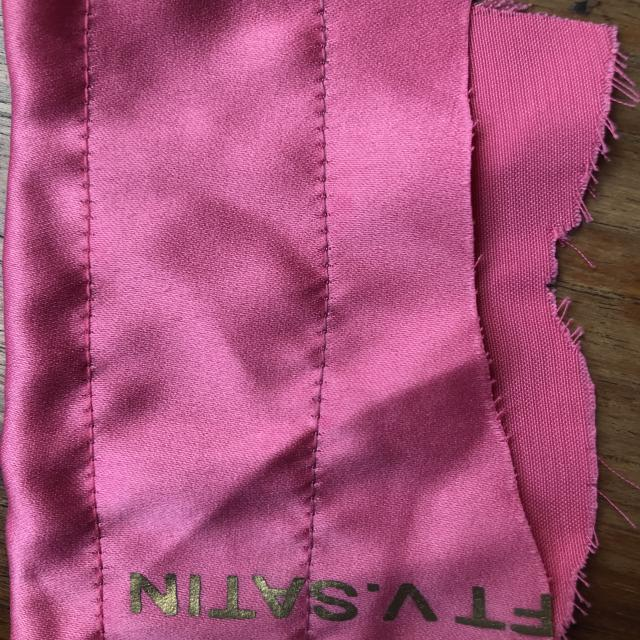good: (79, 252, 107, 364)
